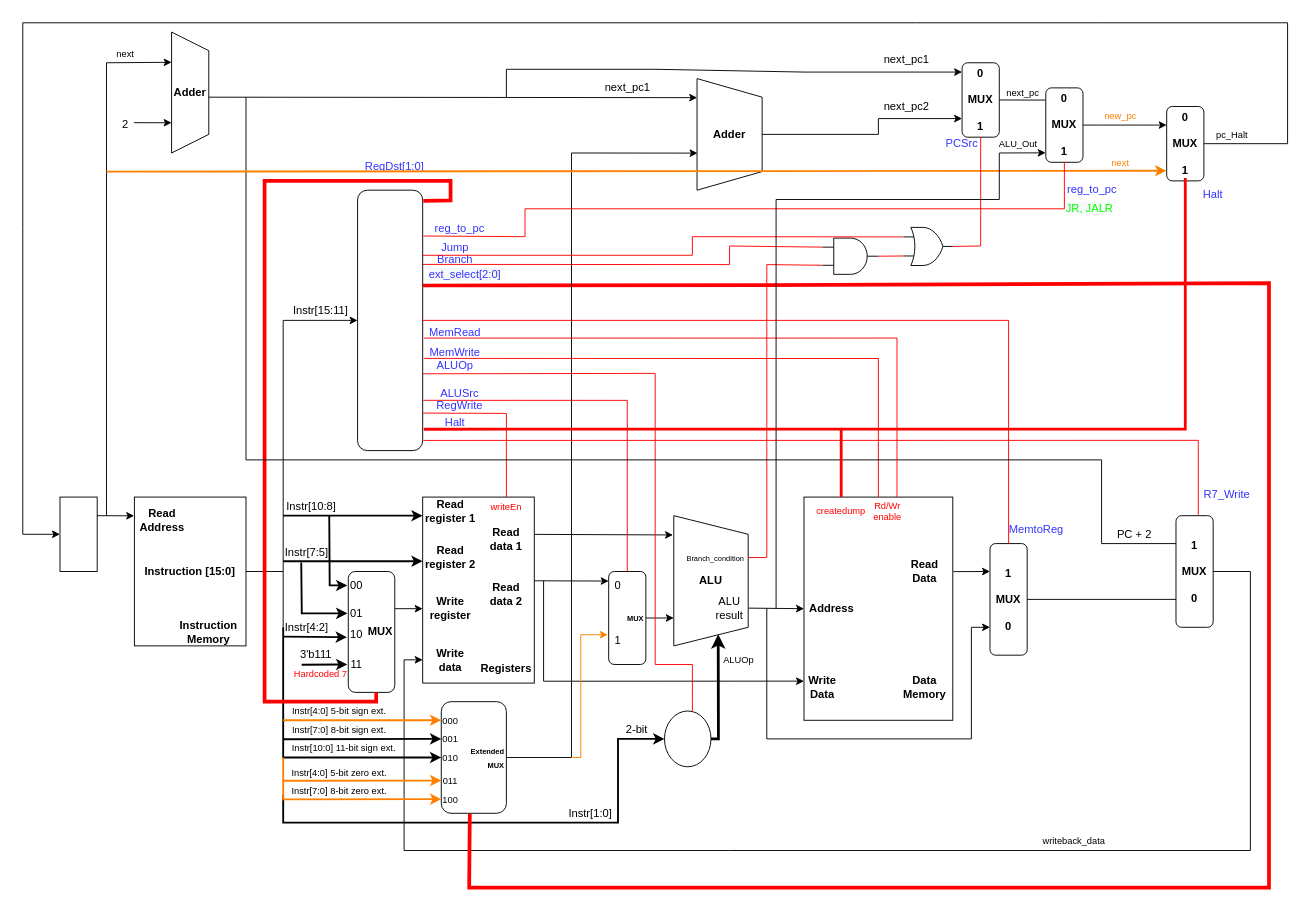
This 1311x907 diagram has some shape labels left out. Here are the shapes that lost their labels. From the top down, the centre of each, then its label:
pixel 390 320: Control
pixel 78 533: PC
pixel 687 738: ALU control
